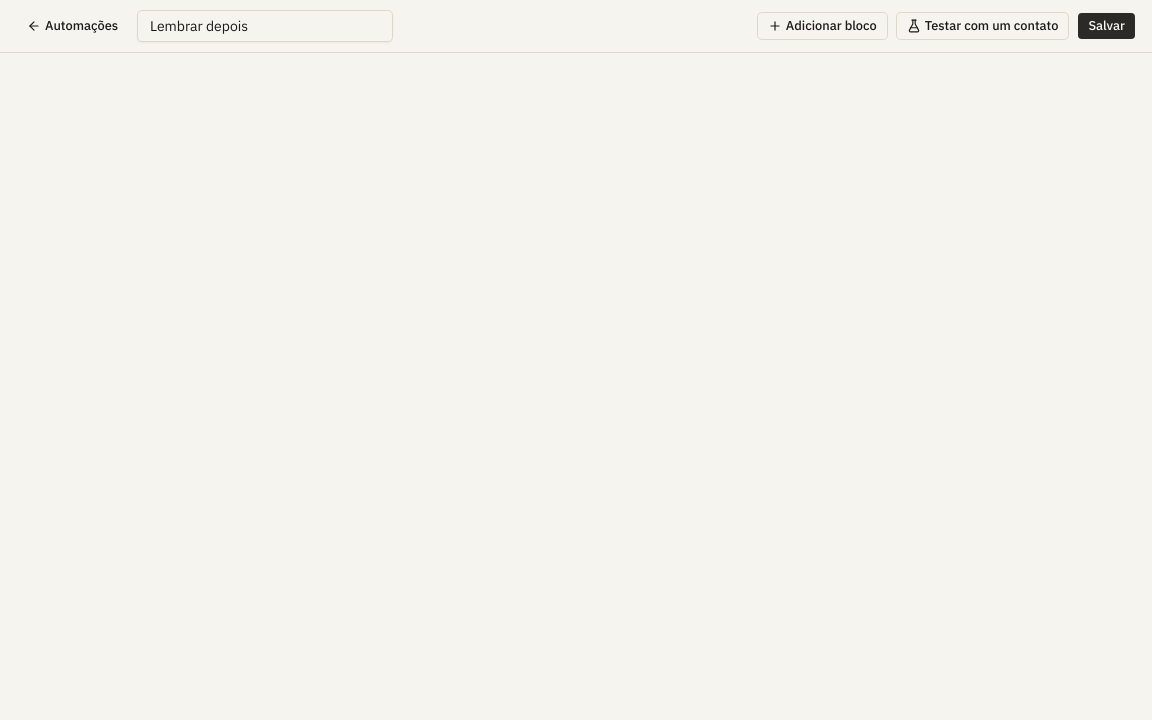
Test: B28-02 — bloco 'esperar' no editor › CA-B28-01: escolhido no menu, nasce com o tempo ligado em 1 dia, as outras opções desligadas e uma saída só
Click the button "Adicionar bloco". click: (822, 26)
box: [757, 12, 888, 40]
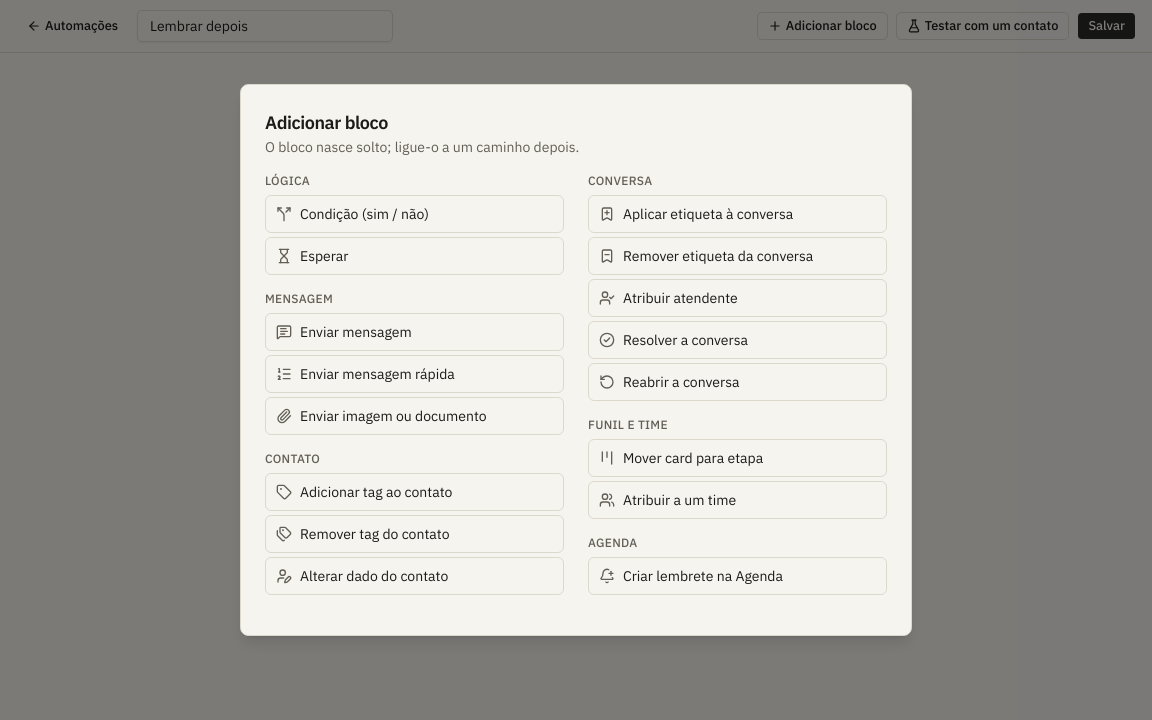
Click the button "Esperar". click: (324, 256)
box: [265, 237, 564, 275]
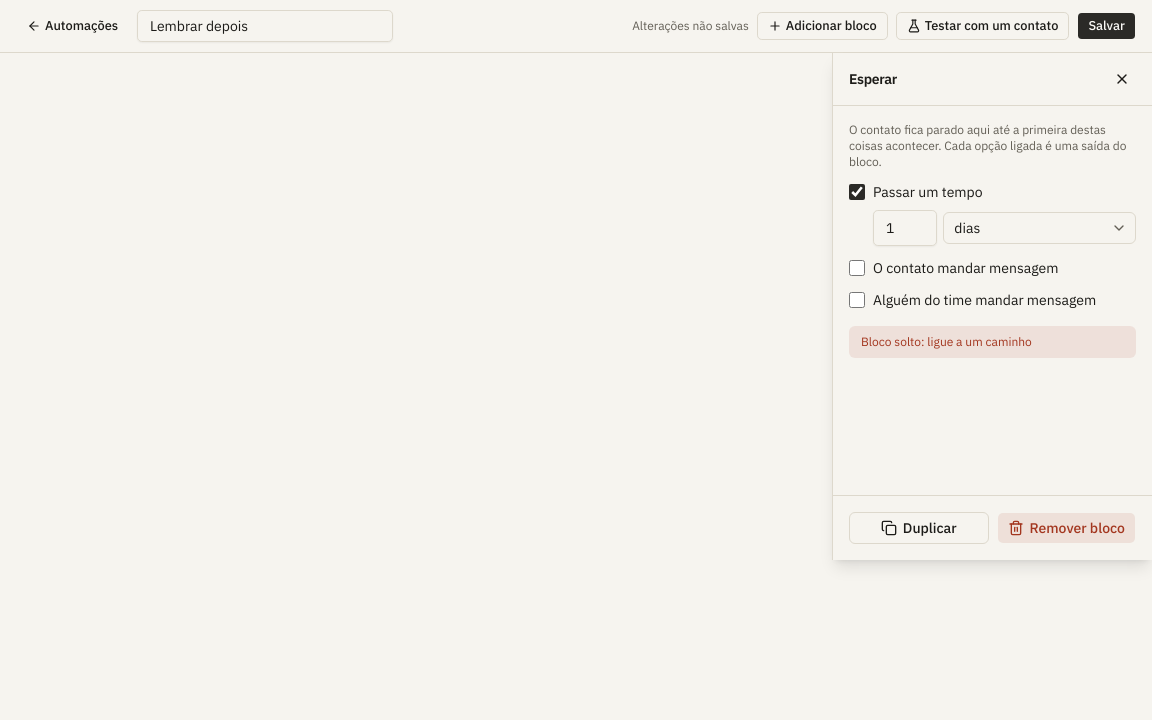
Check: the checkbox labelled "Passar um tempo" is checked, box [849, 184, 865, 200]
Check: the checkbox labelled "O contato mandar mensagem" is not checked, box [849, 260, 865, 276]
Check: the checkbox labelled "Alguém do time mandar mensagem" is not checked, box [849, 292, 865, 308]
